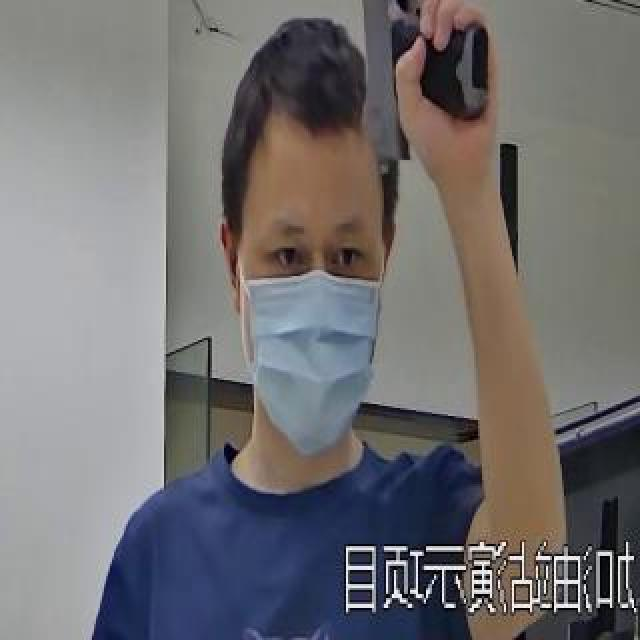Guns: (300, 0, 520, 188)
